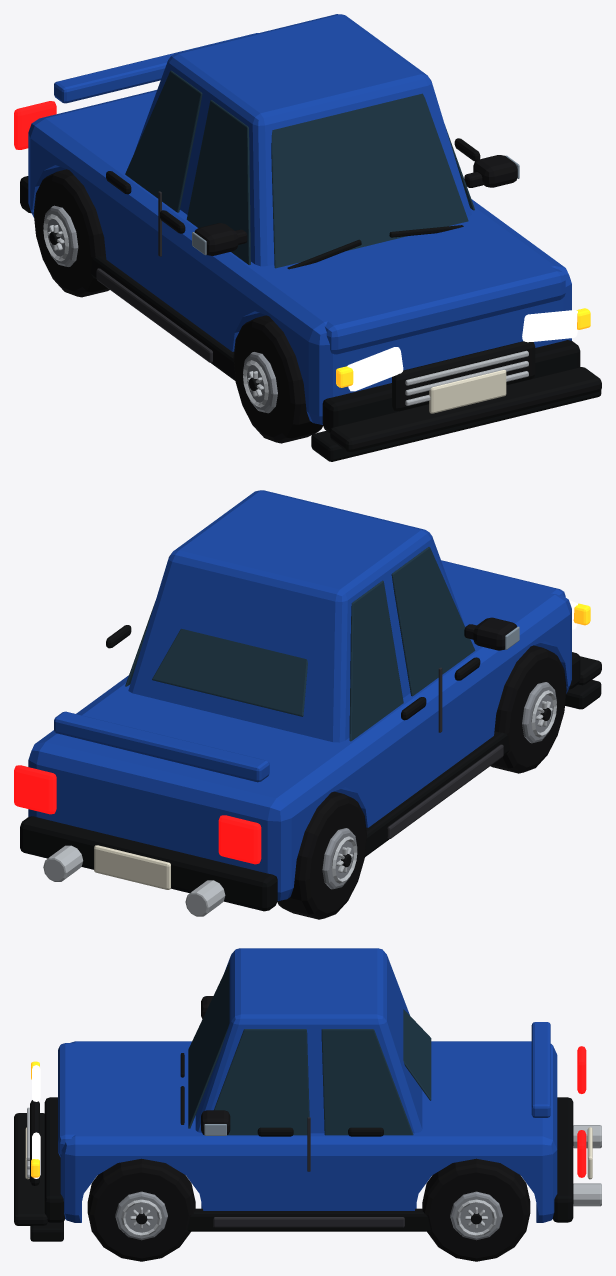
The model's file is sportsedan.glb.
3 views of the same model, one above another, from view 1: azimuth 30°, elevation 25°; view 2: azimuth 150°, elevation 25°; view 3: azimuth 270°, elevation 25° (orthographic). The views are drawn at different scales.
Visible parts, largest first — view 1: SportSedan_LowerBody, SportSedan_CabinShell, SportSedan_FrontWindshield_R6, SportSedan_Hood, V03_SportSedan_FrontSplitter, SportSedan_SideWindowFront_L_R6, SportSedan_SideWindowRear_L_R6, SportSedan_Wheel_Front_L_R3, SportSedan_Wheel_Rear_L_R3, SportSedan_FrontBumper, V03_SportSedan_FrontGrille, SportSedan_RearSpoiler (+13 smaller); view 2: SportSedan_LowerBody, SportSedan_CabinShell, SportSedan_RearWindow_R5, SportSedan_RearBumper, SportSedan_SideWindowFront_L_R6, SportSedan_SideWindowRear_L_R6, SportSedan_Wheel_Rear_L_R3, SportSedan_RearSpoiler, SportSedan_Wheel_Front_L_R3, SportSedan_Hood, SportSedan_SideSkirt_L, V03_SportSedan_Plate_Rear (+9 smaller); view 3: SportSedan_LowerBody, SportSedan_CabinShell, SportSedan_Hood, SportSedan_SideWindowFront_R_R6, SportSedan_SideWindowRear_R_R6, SportSedan_Wheel_Rear_R_R3, SportSedan_Wheel_Front_R_R3, SportSedan_FrontWindshield_R6, SportSedan_SideSkirt_R, V03_SportSedan_FrontSplitter, SportSedan_RearBumper, V03_SportSedan_RockerTrim_R (+14 smaller).
Part boxes in pixels (x1,y1,x2,y2): SportSedan_LowerBody: (28,90,571,424); SportSedan_CabinShell: (134,14,471,266); SportSedan_FrontWindshield_R6: (271,93,468,268); SportSedan_Hood: (269,223,565,354); V03_SportSedan_FrontSplitter: (330,367,601,451); SportSedan_SideWindowFront_L_R6: (186,100,250,264); SportSedan_SideWindowRear_L_R6: (125,70,202,212); SportSedan_Wheel_Front_L_R3: (233,315,322,443); SportSedan_Wheel_Rear_L_R3: (33,169,109,297); SportSedan_FrontBumper: (322,340,580,432); V03_SportSedan_FrontGrille: (392,341,535,411); SportSedan_RearSpoiler: (54,33,258,103); SportSedan_LowerBody: (28,571,571,900); SportSedan_CabinShell: (128,490,465,742); SportSedan_RearWindow_R5: (152,628,307,716); SportSedan_RearBumper: (20,816,277,911); SportSedan_SideWindowFront_L_R6: (391,547,475,696); SportSedan_SideWindowRear_L_R6: (349,580,403,741); SportSedan_Wheel_Rear_L_R3: (277,791,366,919); SportSedan_RearSpoiler: (54,711,269,782); SportSedan_Wheel_Front_L_R3: (490,645,566,773); SportSedan_Hood: (441,560,565,626); SportSedan_SideSkirt_L: (364,731,509,856); V03_SportSedan_Plate_Rear: (94,845,170,889); SportSedan_LowerBody: (60,1041,557,1222); SportSedan_CabinShell: (195,948,422,1133); SportSedan_Hood: (58,1043,174,1157); SportSedan_SideWindowFront_R_R6: (214,1029,309,1135); SportSedan_SideWindowRear_R_R6: (321,1029,413,1135); SportSedan_Wheel_Rear_R_R3: (422,1158,530,1261); SportSedan_Wheel_Front_R_R3: (87,1158,195,1261); SportSedan_FrontWindshield_R6: (188,962,229,1128); SportSedan_SideSkirt_R: (187,1208,430,1231); V03_SportSedan_FrontSplitter: (14,1113,47,1225); SportSedan_RearBumper: (552,1097,573,1222); V03_SportSedan_RockerTrim_R: (213,1217,404,1227).
Size of the model in its own units: 1.59 by 1.3 by 3.05.
